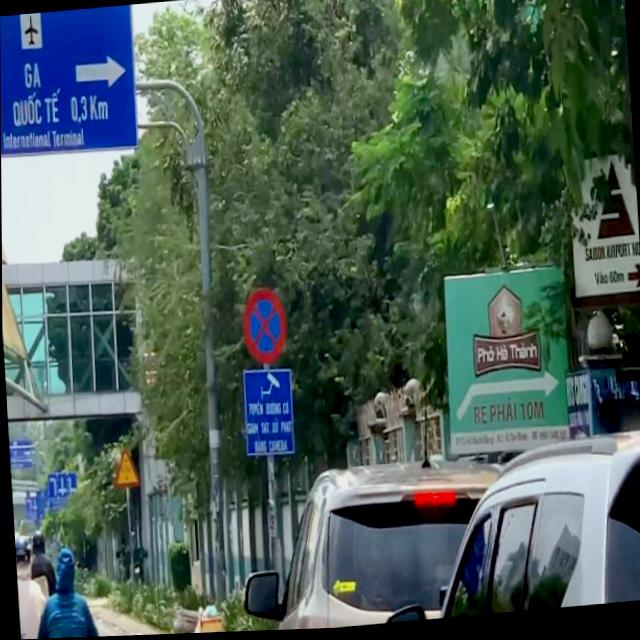Cam dung xe va do xe: (239, 285, 289, 370)
Chieu cao an toan: (108, 442, 141, 495)
